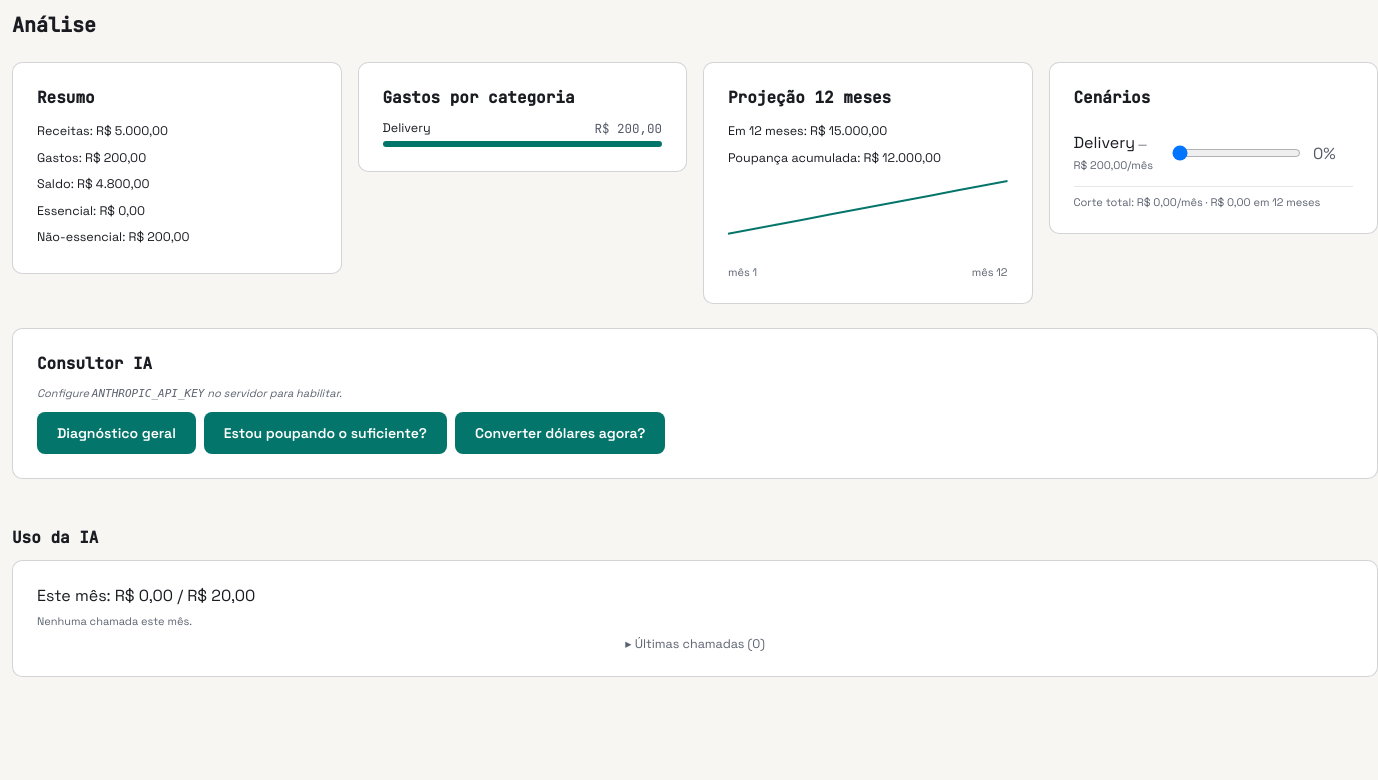
Scenario: AnalisePage › updates the cut total when a scenario slider moves
Set the slider named "Corte de Delivery" to "100" at (1293, 153), box [1172,145,1301,161]
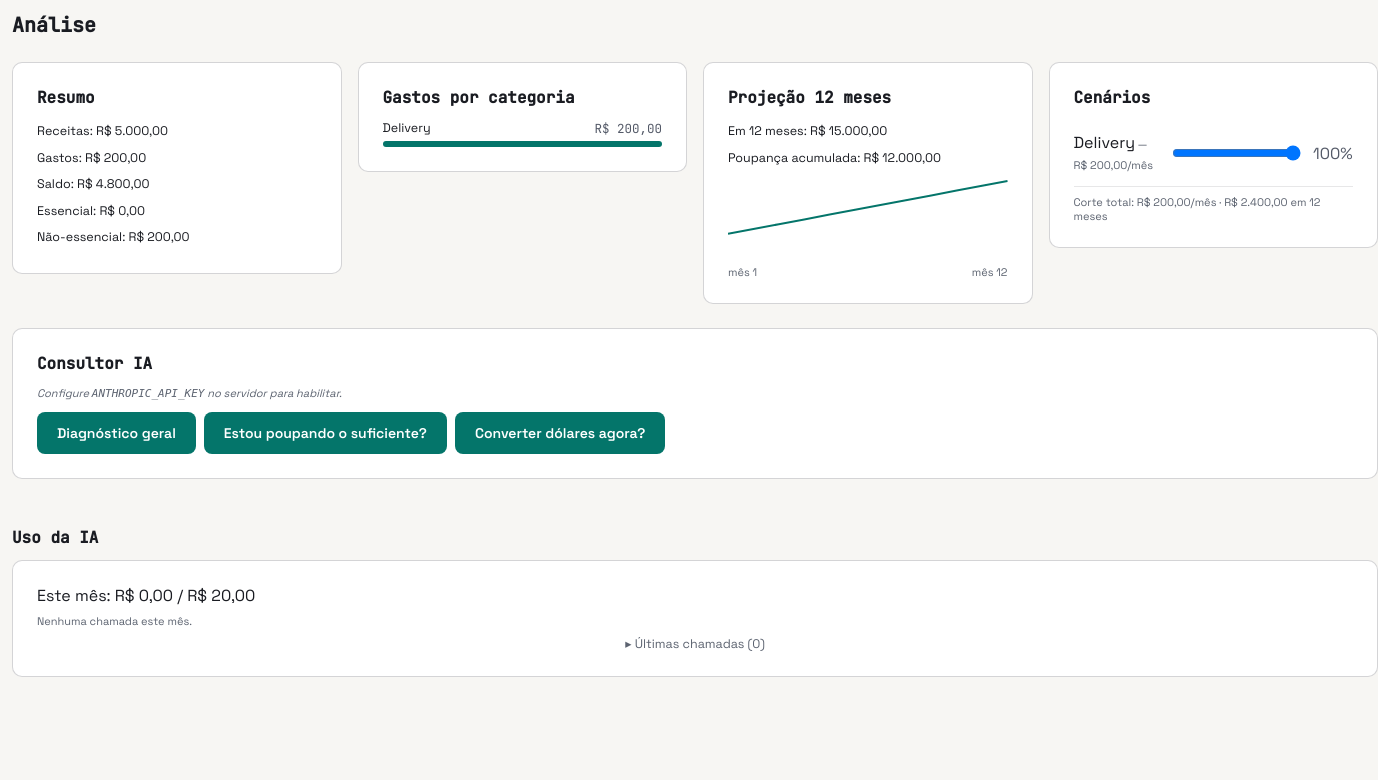
Expected: the text "Corte total: R$ 200,00/mês · R$ 2.400,00 em 12 meses" is shown, [1074,195,1353,223]
